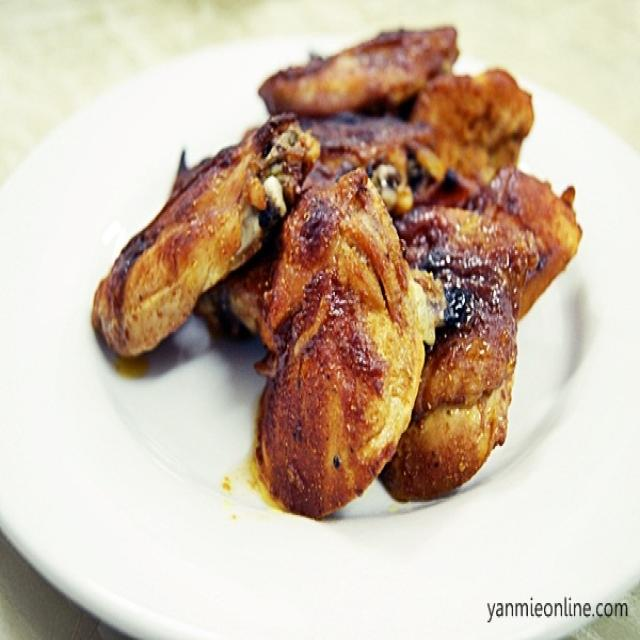鸡肉料理 含炸鸡: (46, 14, 604, 586)
